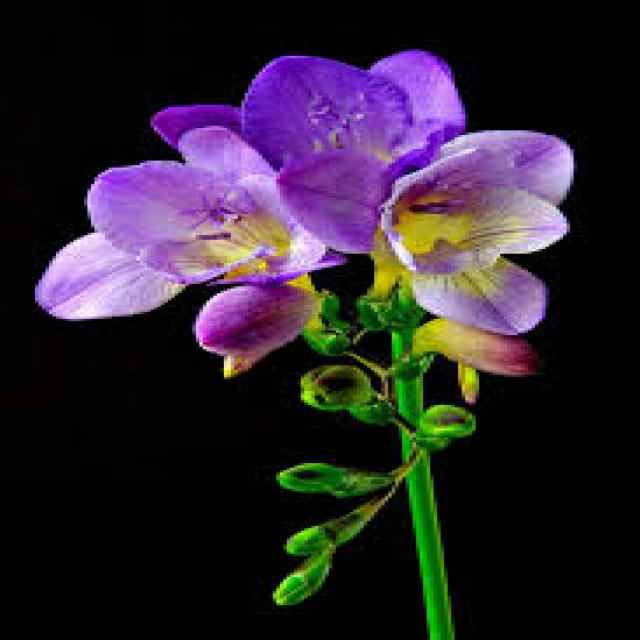freesia: (14, 13, 595, 414)
